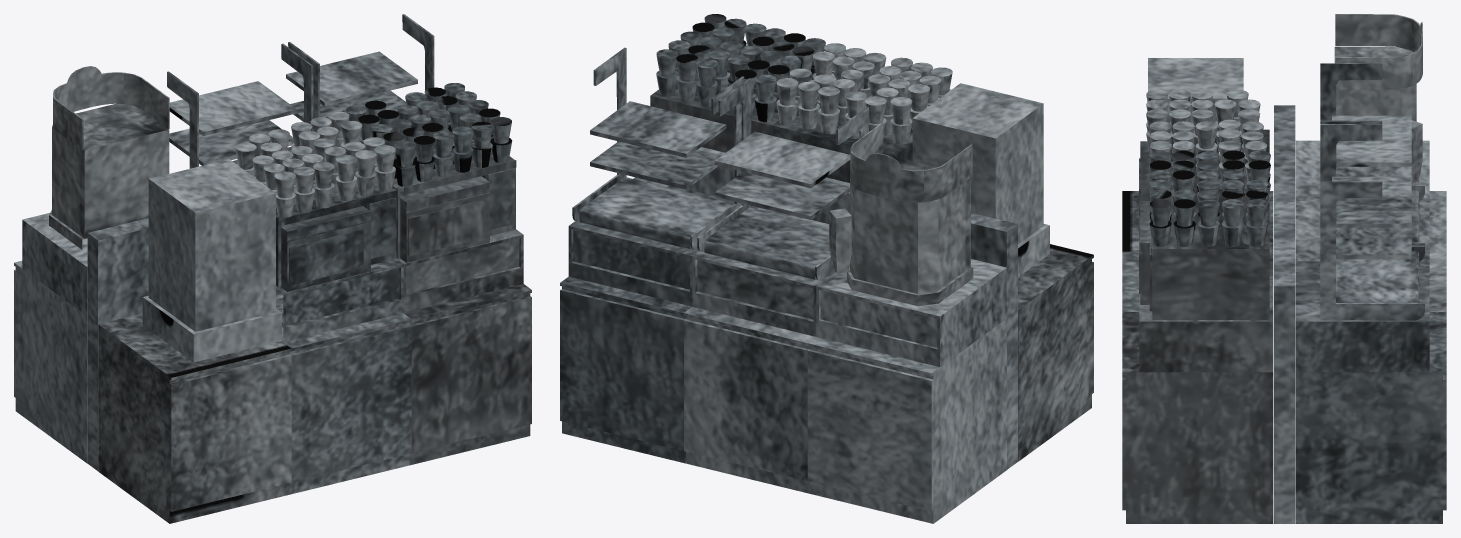
The model's file is store_47.obj.
The picture shows the model from 3 angles, left to right: view 1: azimuth 30°, elevation 25°; view 2: azimuth 150°, elevation 25°; view 3: azimuth 270°, elevation 25°; orthographic projection. The views are drawn at different scales.
Size of the model in its own units: 141 by 126 by 107.
